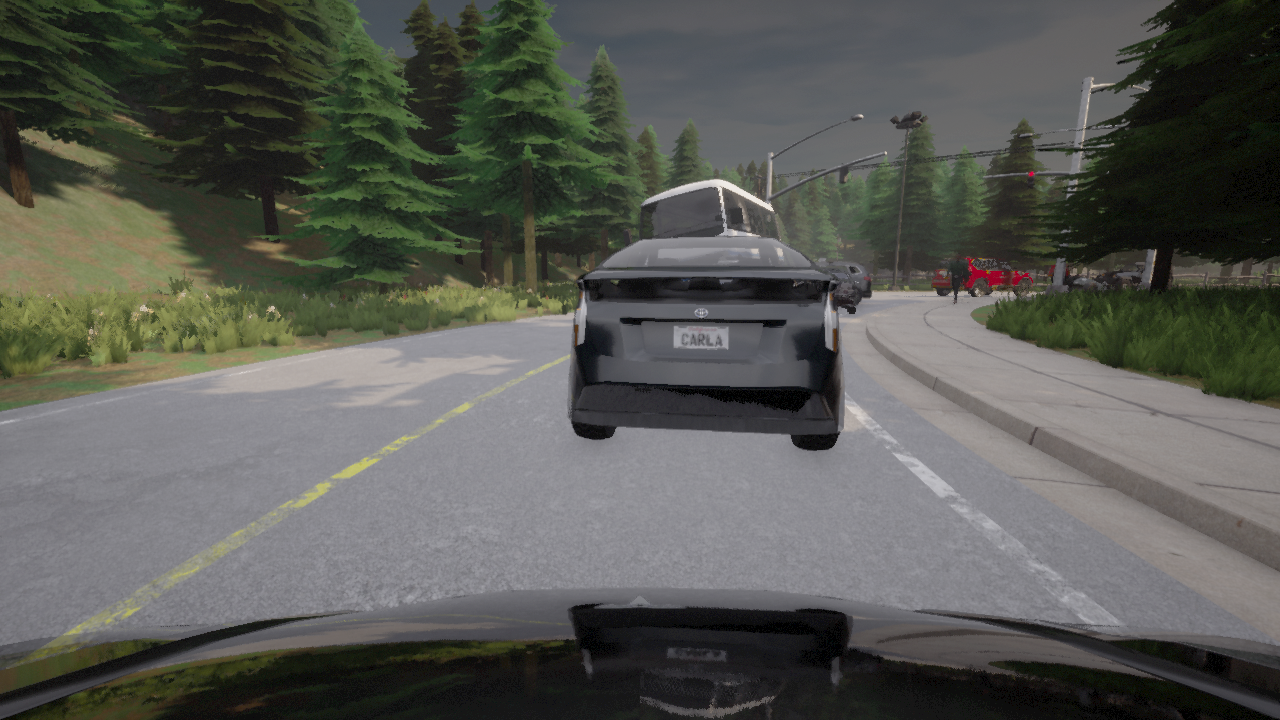cyclist: (0, 588, 1279, 719), (568, 236, 844, 450), (624, 179, 779, 245), (930, 257, 1033, 297), (1092, 262, 1174, 291), (814, 262, 871, 303), (819, 267, 859, 313), (1063, 274, 1113, 292)
pedestrian: (945, 252, 967, 303), (1047, 261, 1068, 284)
